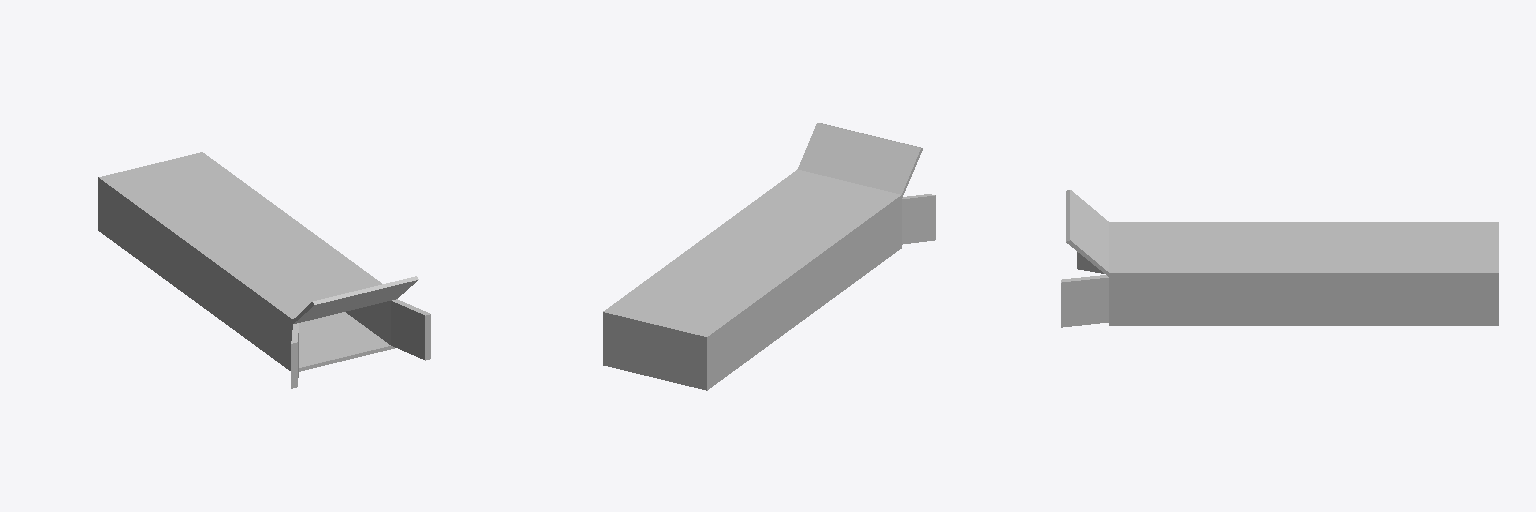
The model's file is pacchetto_vuoto.obj.
3 renders of one model, left to right at view 1: azimuth 30°, elevation 25°; view 2: azimuth 150°, elevation 25°; view 3: azimuth 270°, elevation 25°, orthographic.
Parts seen in each view (by area): view 1: obj0; view 2: obj0; view 3: obj0.
Part boxes in pixels (x1,y1,x2,y2): obj0: (98, 152, 430, 388); obj0: (603, 123, 935, 390); obj0: (1061, 190, 1498, 327).
Size of the model in its own units: 1.38 by 0.8593 by 3.96.